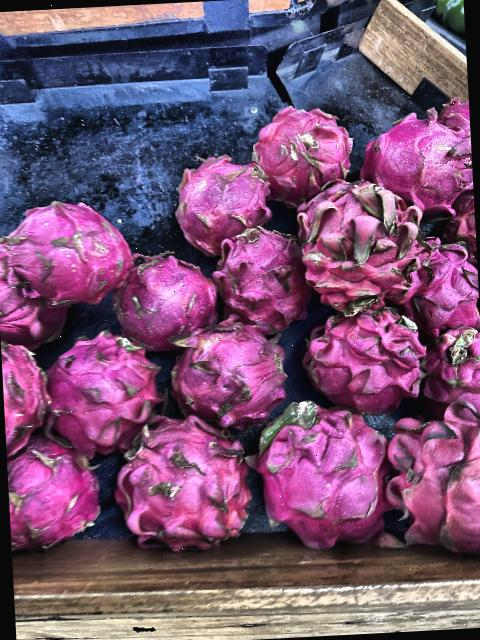buah-naga-matang: (254, 399, 391, 553), (117, 414, 252, 548), (292, 176, 424, 313), (386, 400, 480, 561), (5, 196, 137, 305), (48, 324, 164, 448), (142, 141, 275, 246), (172, 318, 294, 431), (359, 101, 474, 210), (6, 434, 111, 549), (243, 97, 357, 200), (306, 308, 421, 409), (206, 224, 306, 330), (113, 258, 222, 336), (415, 231, 480, 329), (413, 326, 480, 396)
